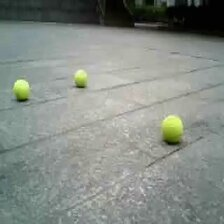tennis: (162, 116, 183, 142), (12, 80, 32, 100), (73, 69, 88, 86)
